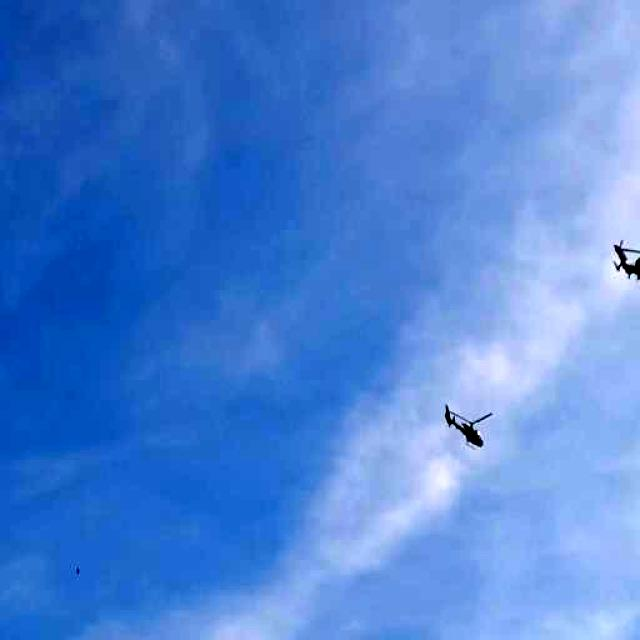drone: (444, 378, 505, 455), (604, 211, 640, 300)
